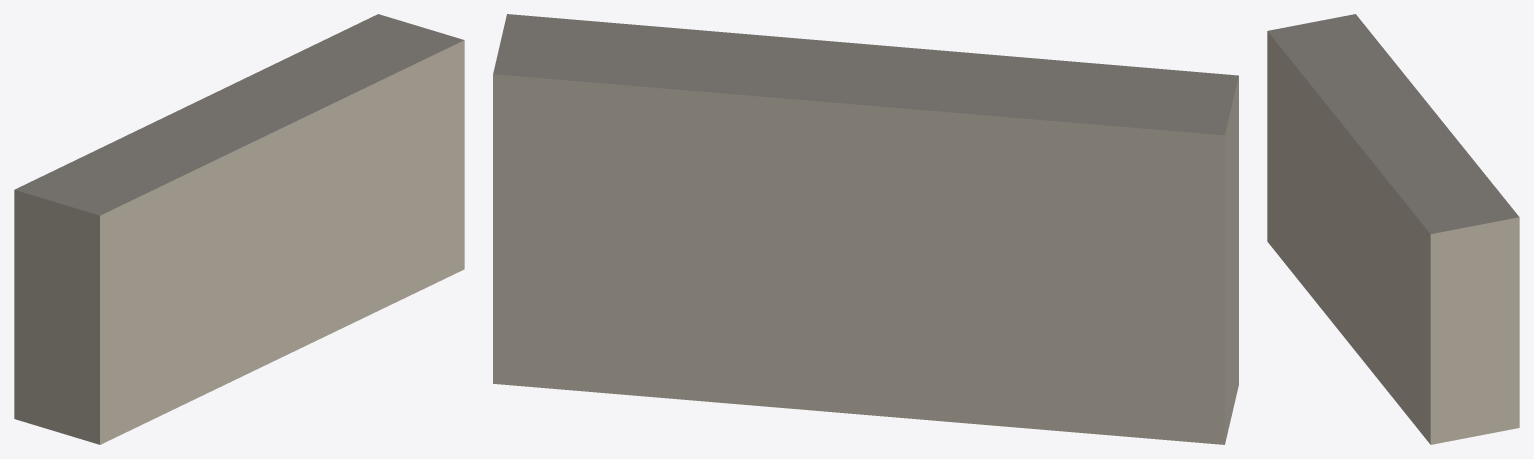
The picture shows the model from 3 angles, left to right: view 1: azimuth 30°, elevation 25°; view 2: azimuth 150°, elevation 25°; view 3: azimuth 270°, elevation 25°; orthographic projection. The views are drawn at different scales.
Visible parts, largest first — view 1: HP-w505655138; view 2: HP-w505655138; view 3: HP-w505655138.
Part boxes in pixels (<box>): HP-w505655138: <box>14,14,464,444</box>; HP-w505655138: <box>493,14,1238,444</box>; HP-w505655138: <box>1267,14,1519,444</box>.
Bounding box in the file's own units: 33.62 × 15 × 16.27.
